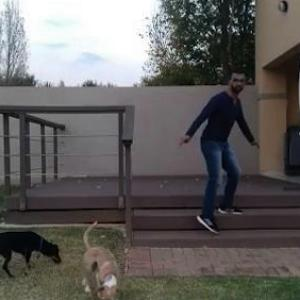land: (180, 65, 256, 237)
